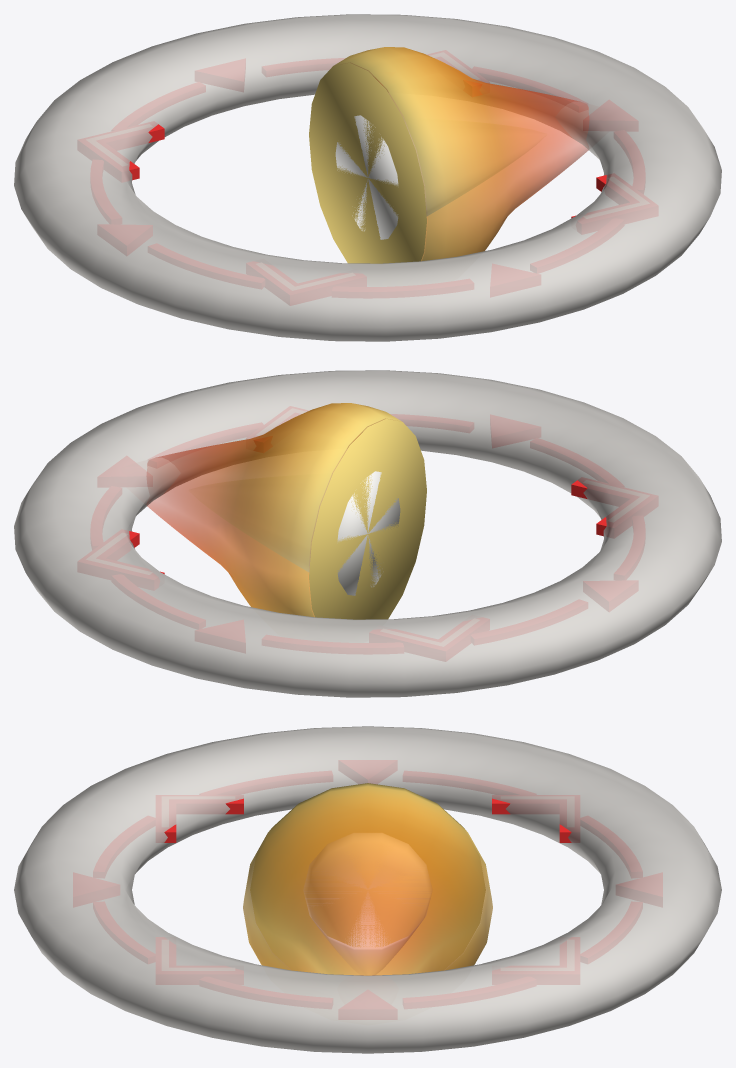
Rendered from HeatSeeker.glb.
The picture shows the model from 3 angles, top to bottom: view 1: azimuth 30°, elevation 25°; view 2: azimuth 150°, elevation 25°; view 3: azimuth 270°, elevation 25°; orthographic projection.
Parts seen in each view (by area): view 1: SmokeRing, ExhaustFlame, Reticle; view 2: SmokeRing, ExhaustFlame, Reticle; view 3: SmokeRing, ExhaustFlame, Reticle.
Boxes of the visible parts, x1,y1,x2,y2 form: SmokeRing: (14,14,721,341); ExhaustFlame: (309,47,588,263); Reticle: (129,84,606,218); SmokeRing: (14,370,721,697); ExhaustFlame: (147,403,426,619); Reticle: (129,440,606,574); SmokeRing: (14,726,721,1053); ExhaustFlame: (243,783,492,975); Reticle: (164,798,571,842).
Bounding box in the file's own units: 2.4 × 0.8482 × 2.4.
Materials: 1 (1 with a texture image).
